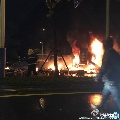fire: (47, 31, 104, 74)
